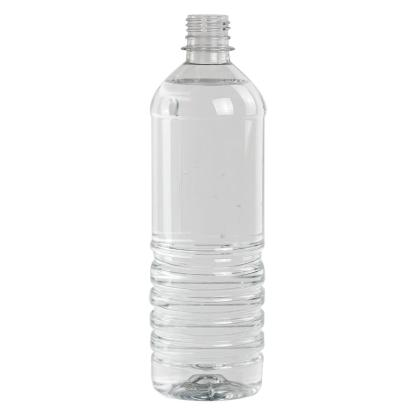Plastic Bottle: (150, 15, 266, 401)
